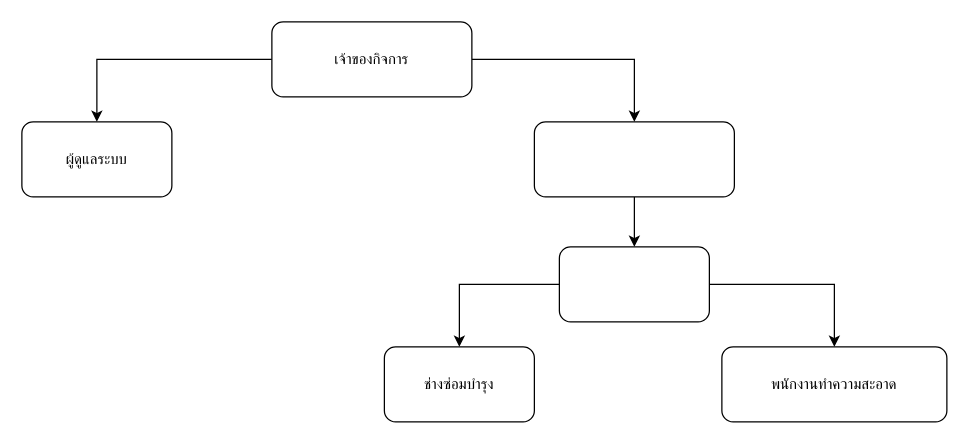
Some shapes in this 969 by 444 pixel diagram are drawn without their labels. Each missing label, with the centre of its shape:
"ผู้จัดการอพาร์ทเมนต์" goes at point 633,159.
"พนักงานดูแลหอพัก" goes at point 633,284.
